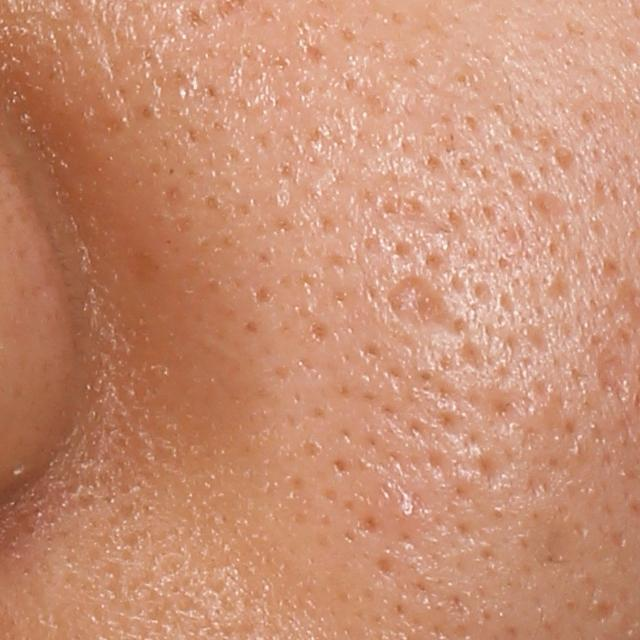atrophic_scar: (578, 332, 638, 406), (525, 505, 587, 576), (386, 273, 457, 327), (525, 191, 570, 230), (589, 600, 617, 618)
